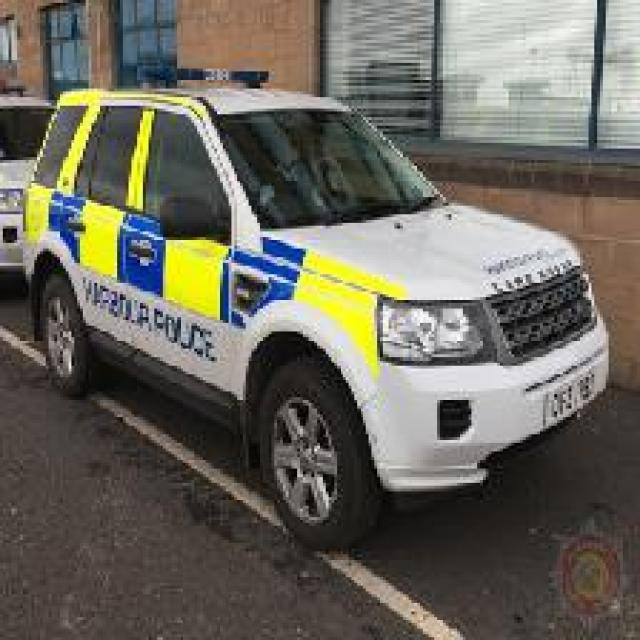Car: (0, 89, 57, 294)
Police-car: (17, 71, 612, 552)
